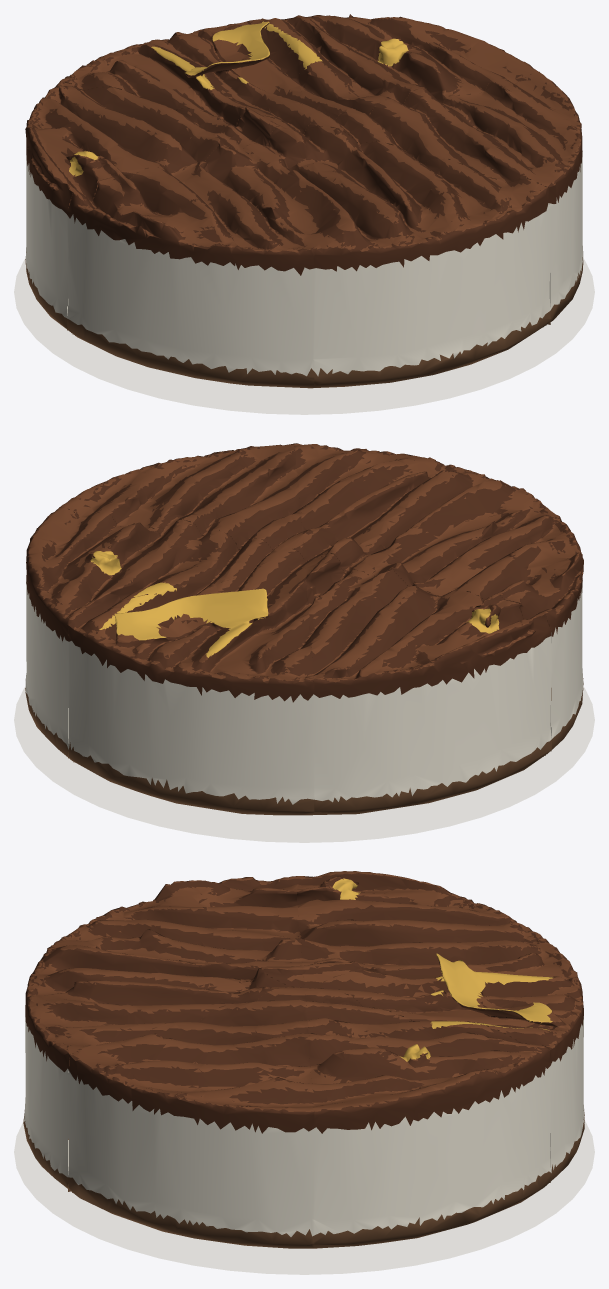
The model's file is TiramisuCakeSliced.gltf.
3 views of the same model, one above another, from view 1: azimuth 30°, elevation 25°; view 2: azimuth 150°, elevation 25°; view 3: azimuth 270°, elevation 25° (orthographic).
Parts seen in each view (by area): view 1: Slice4, Slice5, Slice3, Slice6, Board, Slice1, Slice2; view 2: Slice2, Slice3, Slice1, Slice4, Board, Slice5, Slice6; view 3: Slice6, Slice1, Slice5, Slice2, Board, Slice3, Slice4.
Part boxes in pixels (left/top/right/bottom): Slice4: left=67, top=126, right=314, bottom=388; Slice5: left=304, top=126, right=550, bottom=387; Slice3: left=25, top=80, right=303, bottom=334; Slice6: left=305, top=72, right=583, bottom=325; Board: left=14, top=258, right=594, bottom=414; Slice1: left=295, top=14, right=539, bottom=132; Slice2: left=61, top=17, right=304, bottom=133; Slice2: left=68, top=557, right=314, bottom=815; Slice3: left=304, top=553, right=551, bottom=814; Slice1: left=25, top=507, right=304, bottom=762; Slice4: left=305, top=499, right=583, bottom=756; Board: left=14, top=686, right=594, bottom=842; Slice5: left=294, top=443, right=537, bottom=561; Slice6: left=59, top=443, right=304, bottom=559; Slice6: left=68, top=986, right=314, bottom=1248; Slice1: left=305, top=988, right=550, bottom=1248; Slice5: left=23, top=938, right=292, bottom=1192; Slice2: left=315, top=933, right=584, bottom=1187; Board: left=14, top=1120, right=594, bottom=1274; Slice3: left=295, top=871, right=537, bottom=988; Slice4: left=61, top=876, right=304, bottom=987.
Bounding box in the file's own units: 3.11 × 1.1 × 3.11.
1 material, 1 textured.
